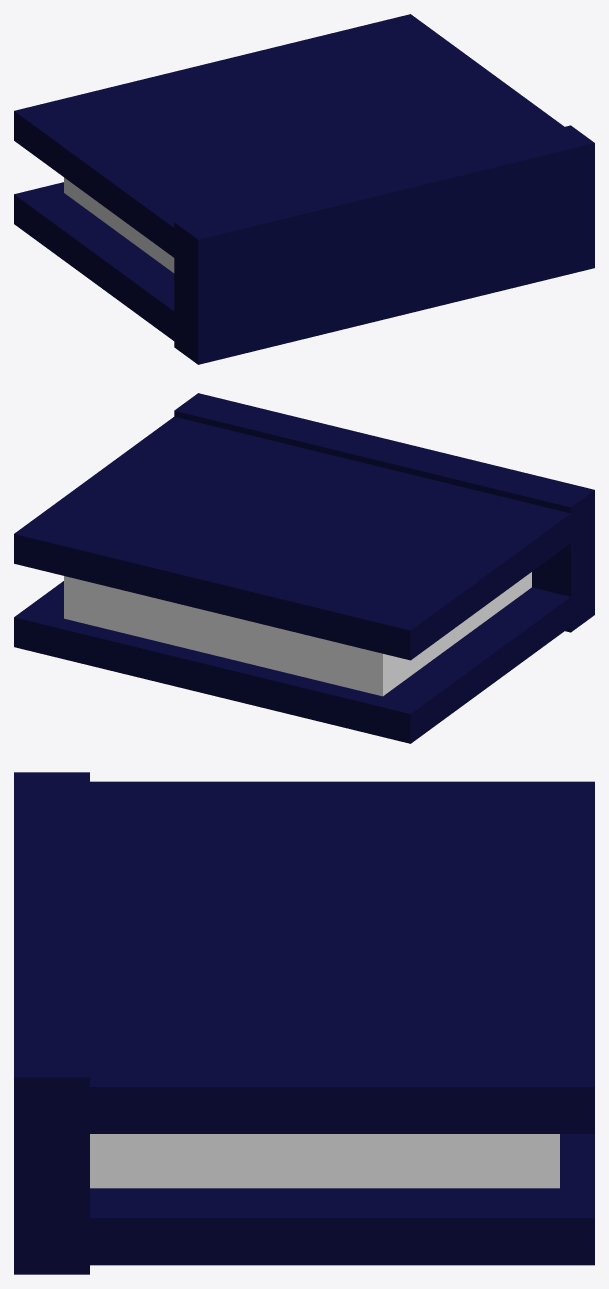
File: Book.fbx
3 renders of one model, top to bottom at view 1: azimuth 30°, elevation 25°; view 2: azimuth 150°, elevation 25°; view 3: azimuth 270°, elevation 25°, orthographic. The views are drawn at different scales.
Visible parts, largest first — view 1: Book; view 2: Book; view 3: Book.
Boxes of the visible parts, left/top/right/bottom form: Book: left=14, top=14, right=594, bottom=364; Book: left=14, top=393, right=594, bottom=743; Book: left=14, top=772, right=594, bottom=1274.
Size of the model in its own units: 249 by 74.99 by 200.
